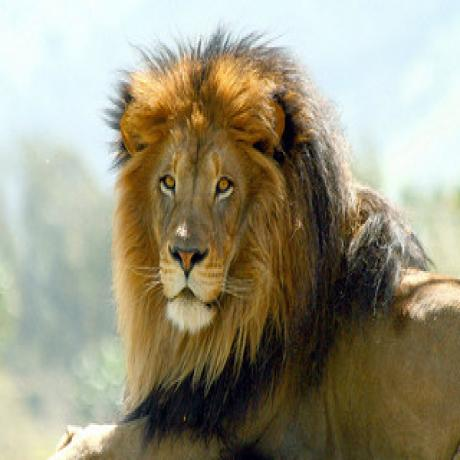Lion: (56, 37, 460, 458)
